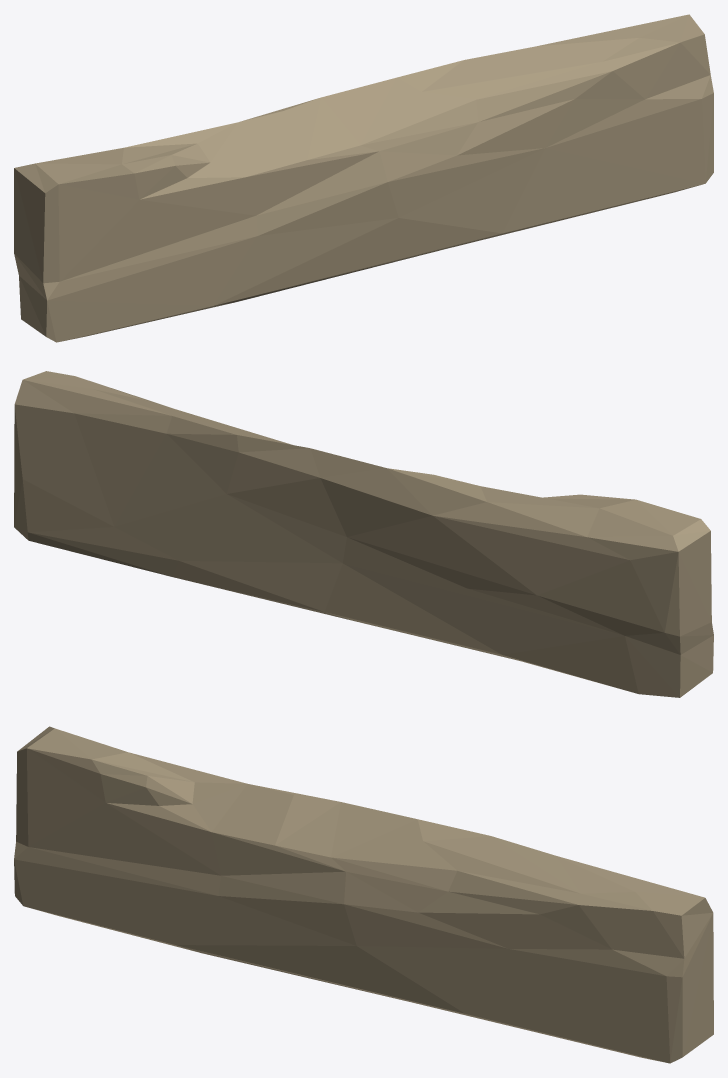
File: SM_wall_small_clay.fbx
3 views of the same model, one above another, from view 1: azimuth 30°, elevation 25°; view 2: azimuth 150°, elevation 25°; view 3: azimuth 330°, elevation 25° (orthographic).
Visible parts, largest first — view 1: Object178; view 2: Object178; view 3: Object178.
Boxes of the visible parts, x1,y1,x2,y2 form: Object178: (14, 14, 713, 342); Object178: (14, 371, 713, 697); Object178: (14, 726, 713, 1063).
Bounding box in the file's own units: 154 × 16.71 × 36.5.
